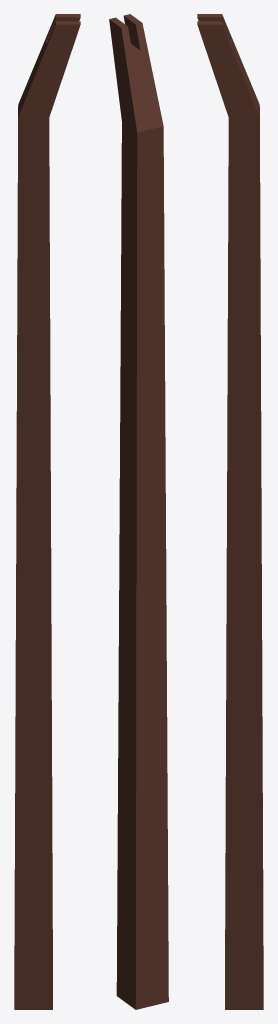
The model's file is japan_mast.glb.
3 renders of one model, left to right at view 1: azimuth 90°, elevation 25°; view 2: azimuth 210°, elevation 25°; view 3: azimuth 270°, elevation 25°, orthographic.
Parts seen in each view (by area): view 1: seki_mast; view 2: seki_mast; view 3: seki_mast.
Boxes of the visible parts, <box> form: seki_mast: <box>14,14,80,1009</box>; seki_mast: <box>109,14,168,1009</box>; seki_mast: <box>197,14,263,1009</box>.
Size of the model in its own units: 0.28 by 7.82 by 0.479.
